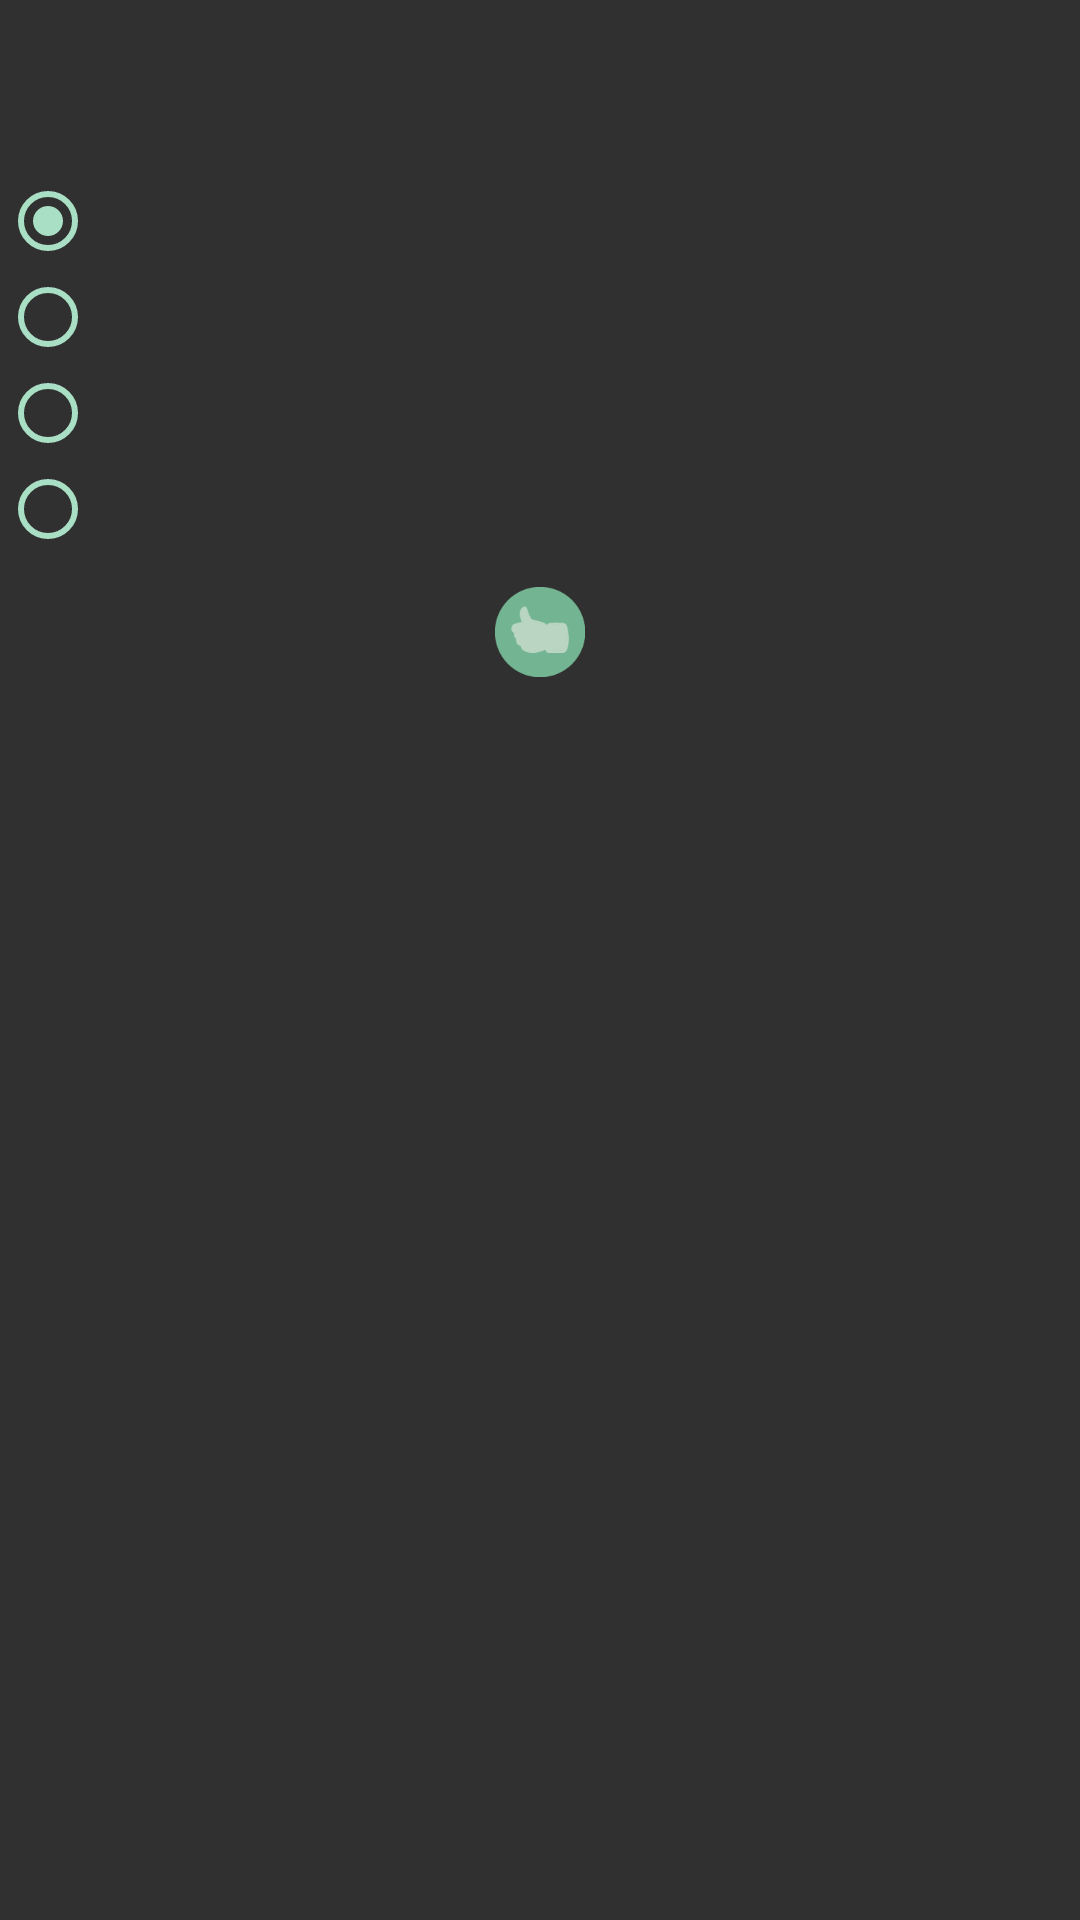

Point at icon controls on the screen. Image size 1080px×1920px, points as [x,y].
done: [540,632]
